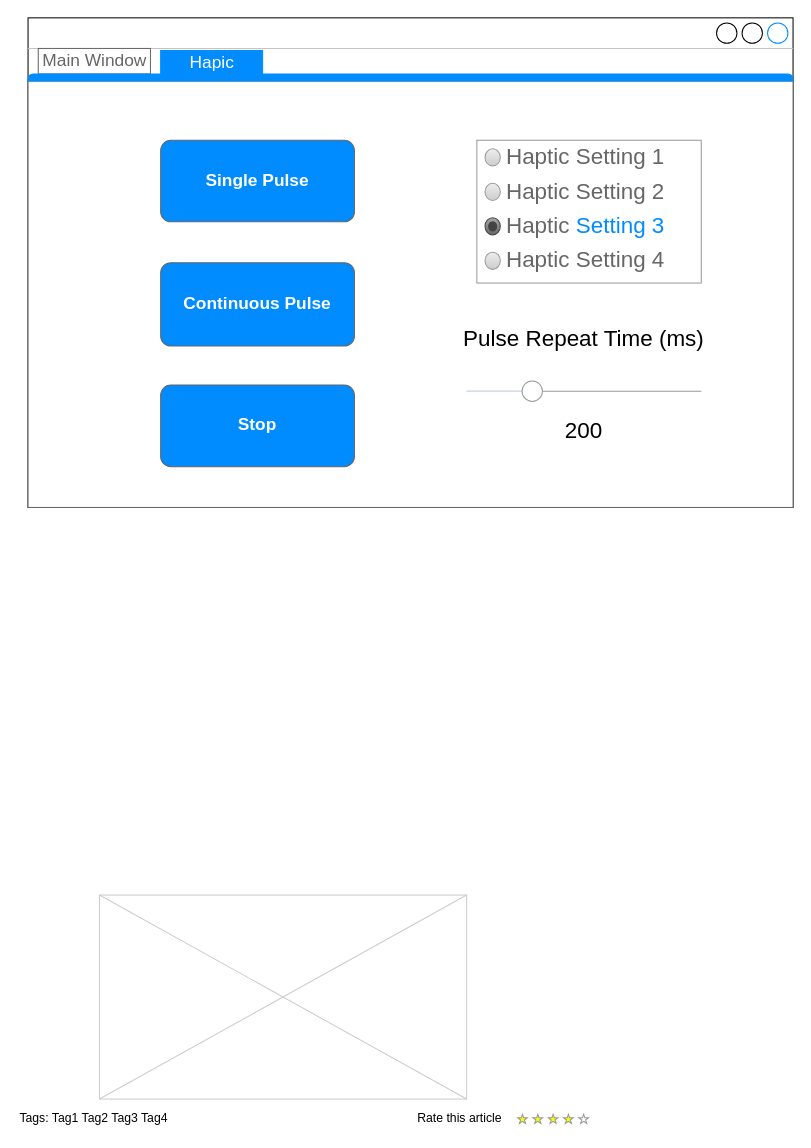
Image size: 811x1148. Some labels were removed from this diagram. Each missing label, with the box of its shape:
Article Picture: (98, 894, 467, 1099)
Window Title: (27, 17, 793, 507)
